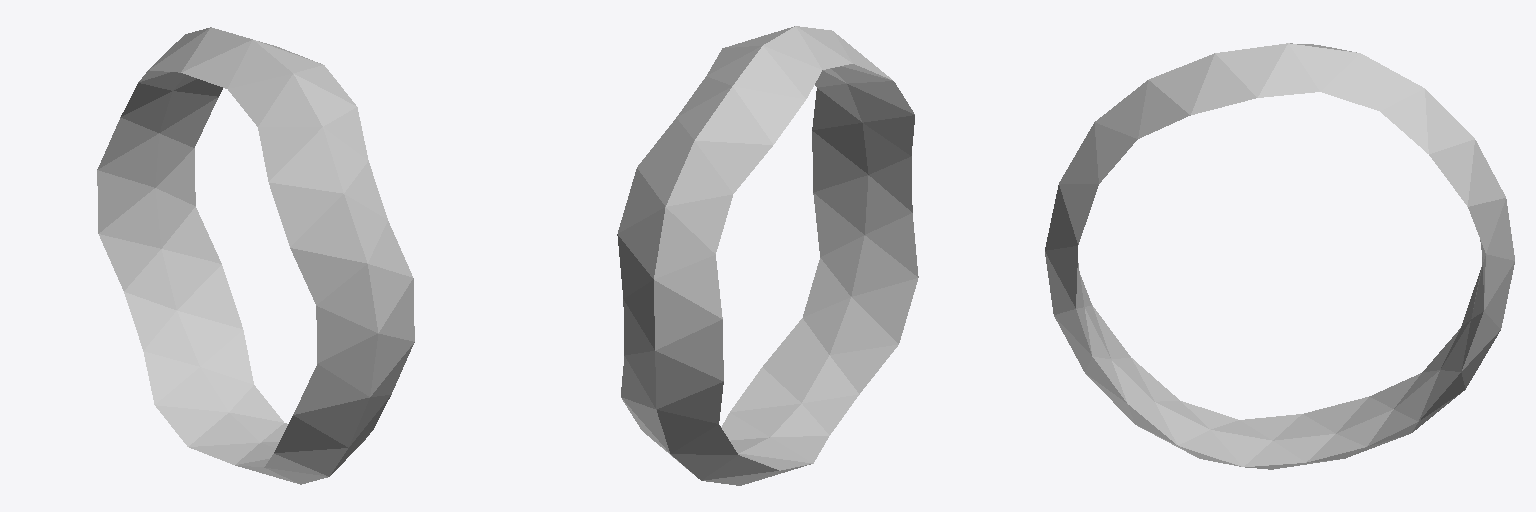
File: Inner.obj
The picture shows the model from 3 angles: view 1: azimuth 30°, elevation 25°; view 2: azimuth 150°, elevation 25°; view 3: azimuth 270°, elevation 25°; orthographic projection.
Visible parts, largest first — view 1: Inner_step-one; view 2: Inner_step-one; view 3: Inner_step-one.
Part boxes in pixels (bbox=[...]): Inner_step-one: bbox=[97, 27, 414, 484]; Inner_step-one: bbox=[617, 26, 918, 485]; Inner_step-one: bbox=[1045, 43, 1514, 469].
Bounding box in the file's own units: 0.9333 × 3.35 × 3.35.